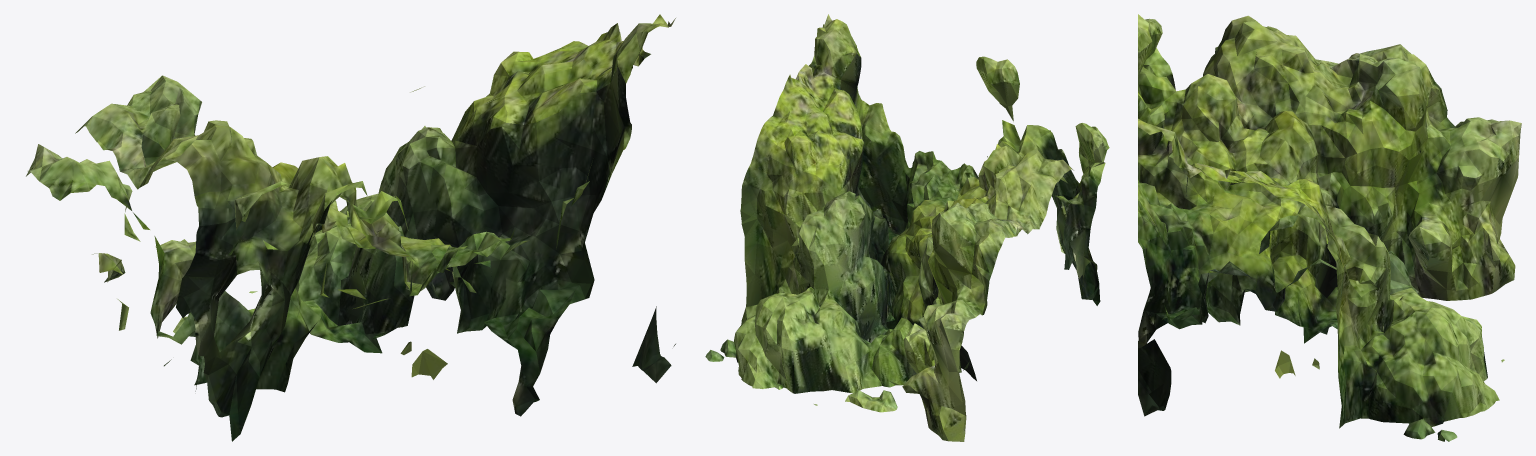
The picture shows the model from 3 angles, left to right: view 1: azimuth 30°, elevation 25°; view 2: azimuth 150°, elevation 25°; view 3: azimuth 270°, elevation 25°; orthographic projection. The views are drawn at different scales.
Bounding box in the file's own units: 26.11 × 22.45 × 24.43.
6 materials, 6 textured.
